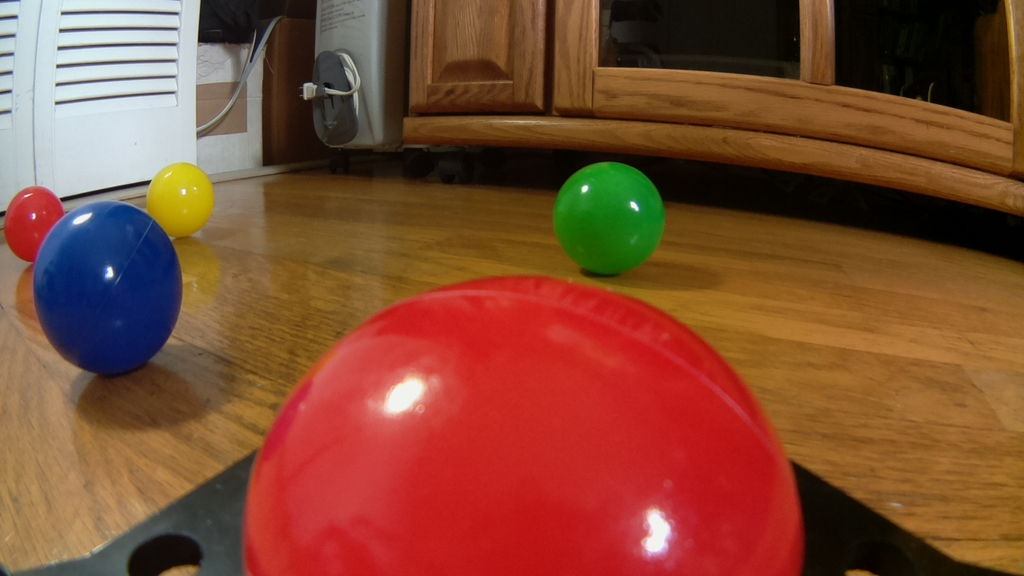ball: (5, 184, 67, 265)
